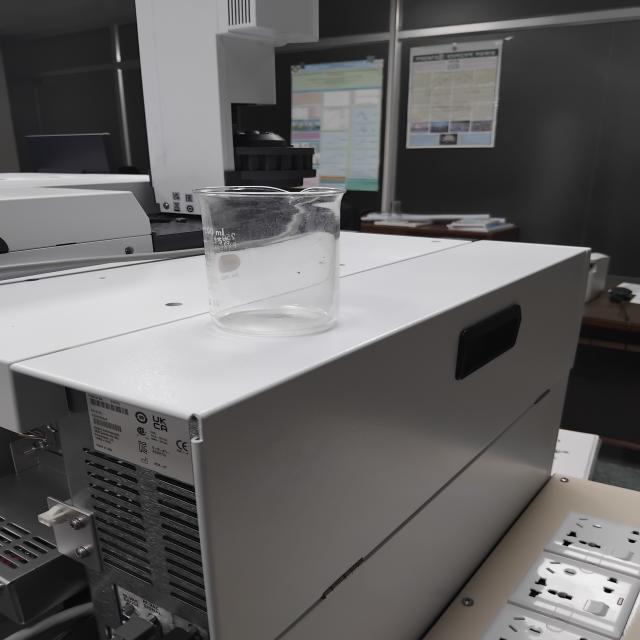Beaker: (167, 161, 374, 364)
